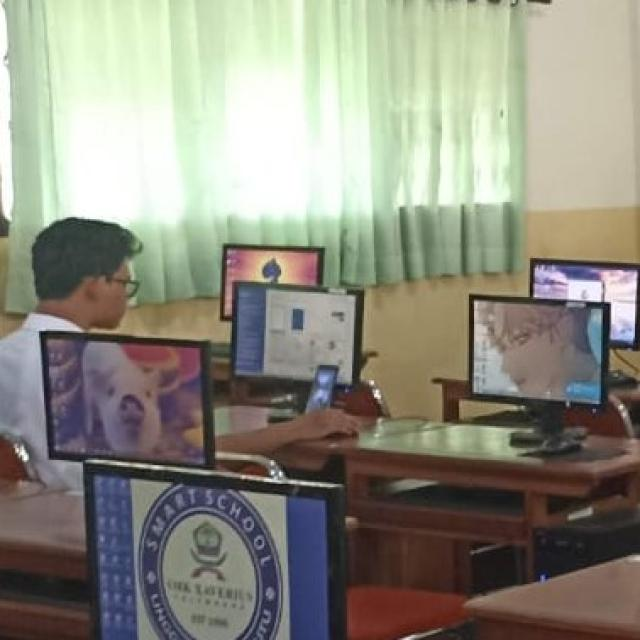onscreen: (85, 462, 345, 639), (40, 334, 212, 466), (470, 296, 609, 404), (235, 286, 362, 384), (530, 260, 639, 348), (220, 244, 324, 319)
